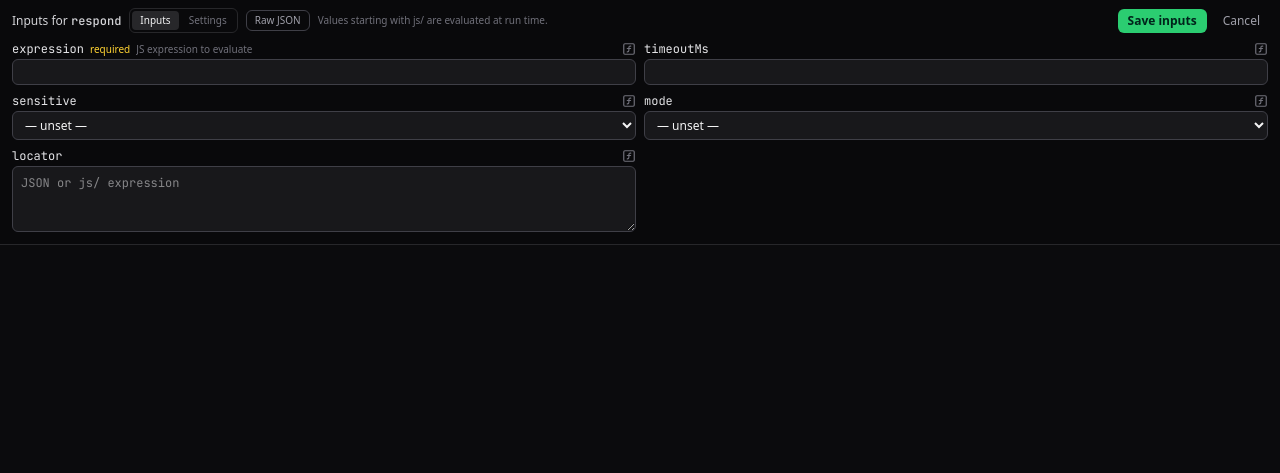
Test: Settings tab › shows the ephemeral footgun warning only when ephemeral is on
This screenshot has width=1280, height=473.
Click the tab "Settings".
click(208, 20)  # box [181,11,235,30]
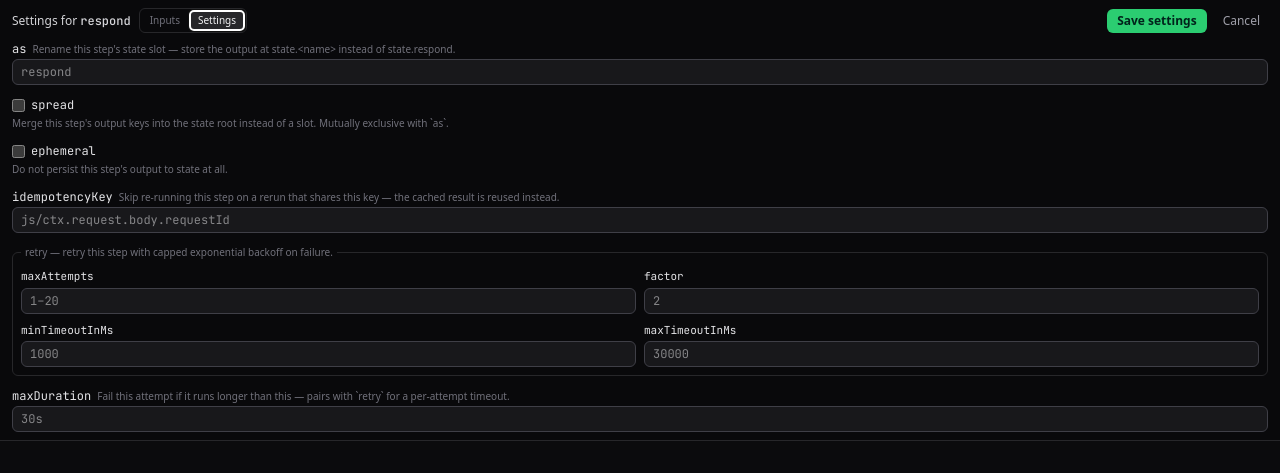
expect the text "downstream steps cannot read this step's handle" is not shown: met
Click the checkbox labelled "ephemeral".
click(18, 151)  # box [12,144,25,158]
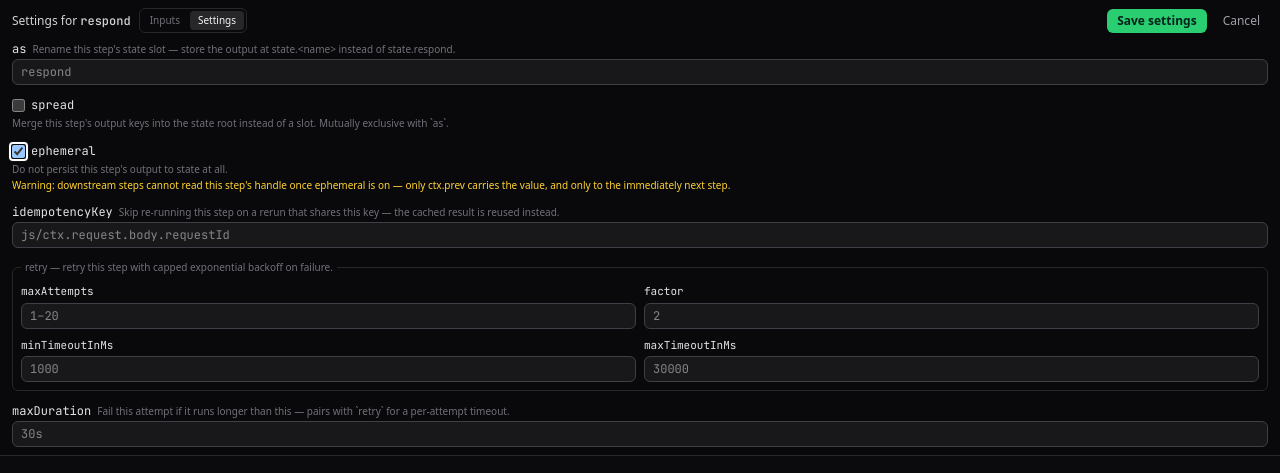
expect the text "downstream steps cannot read this step's handle" is shown: met, box [12,178,730,192]
